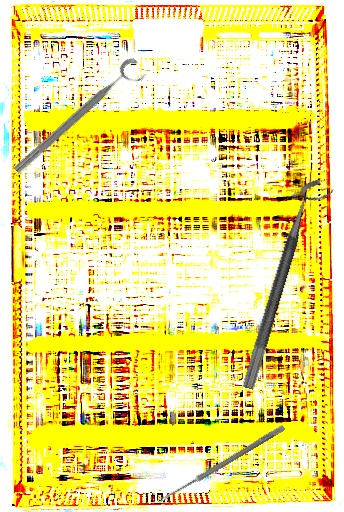Fixation Ring: (241, 175, 335, 396), (9, 54, 150, 185)
Surgical Spoon: (156, 423, 286, 506)
